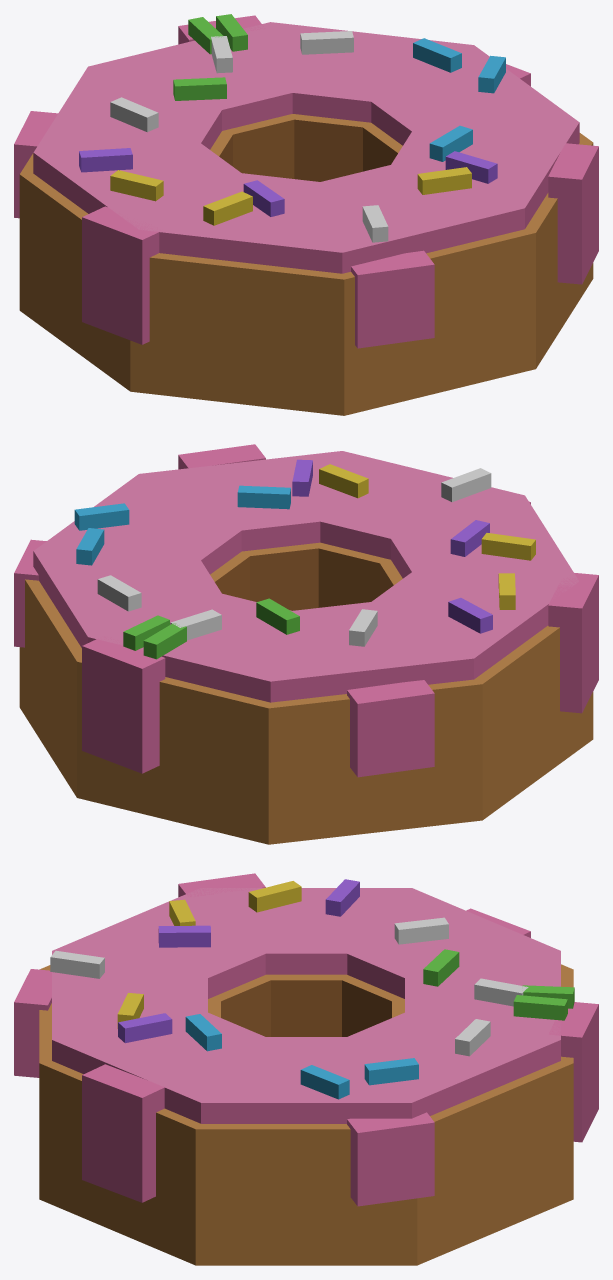
Rendered from donut.glb.
3 views of the same model, one above another, from view 1: azimuth 30°, elevation 25°; view 2: azimuth 150°, elevation 25°; view 3: azimuth 270°, elevation 25° (orthographic).
Parts seen in each view (by area): view 1: donut; view 2: donut; view 3: donut.
Part boxes in pixels (x1,y1,x2,y2): donut: (14, 14, 598, 415); donut: (14, 444, 598, 844); donut: (14, 873, 598, 1265).
Size of the model in its own units: 0.4935 by 0.1632 by 0.5.
